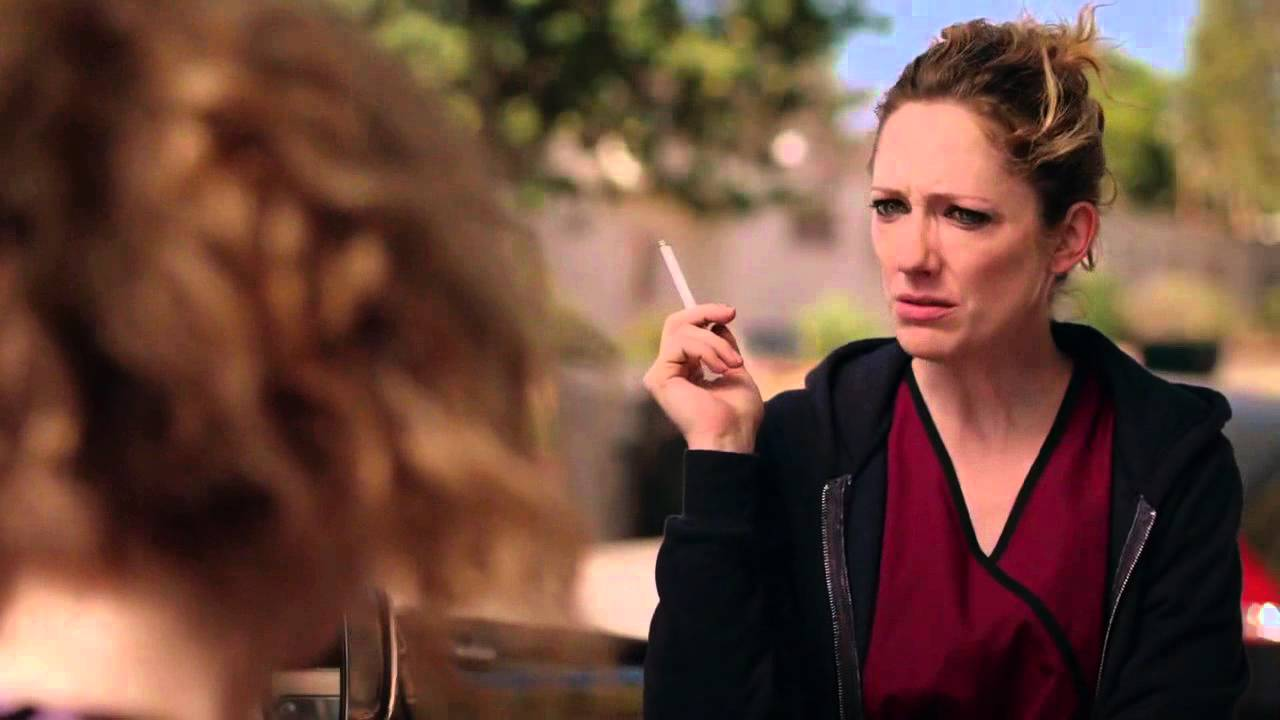cigarette: (648, 239, 711, 318)
